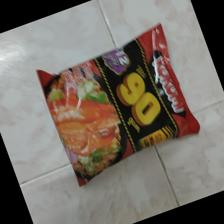Kokomi: (36, 24, 202, 187)
